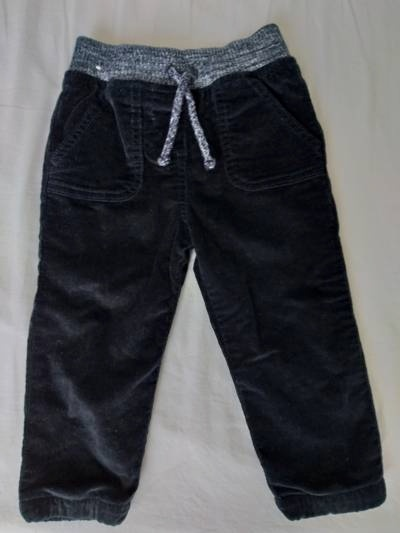Pants: (6, 11, 384, 520)
